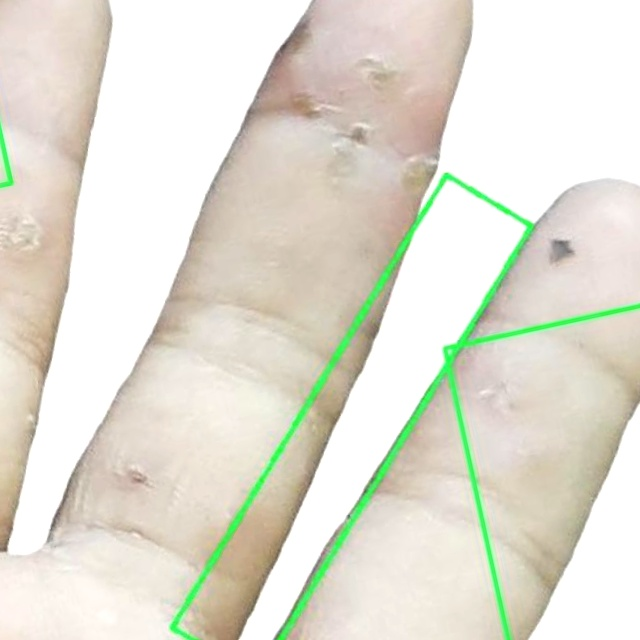Scabies: (172, 176, 530, 639)
